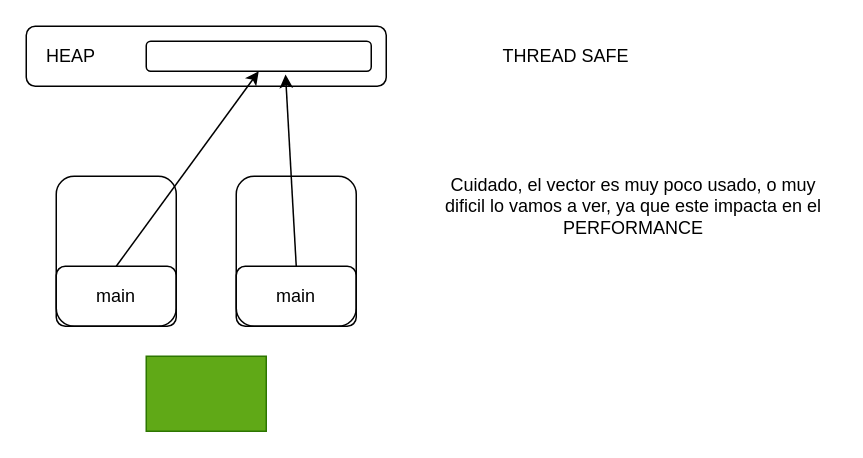
The diagram is 863 pixels wide and 458 high, and some of its shapes have lost their labels. Each missing label, with the centre of its shape:
"java.util.vector" goes at (x=258, y=55).
"Pilas de Ejecución" goes at (x=205, y=393).
